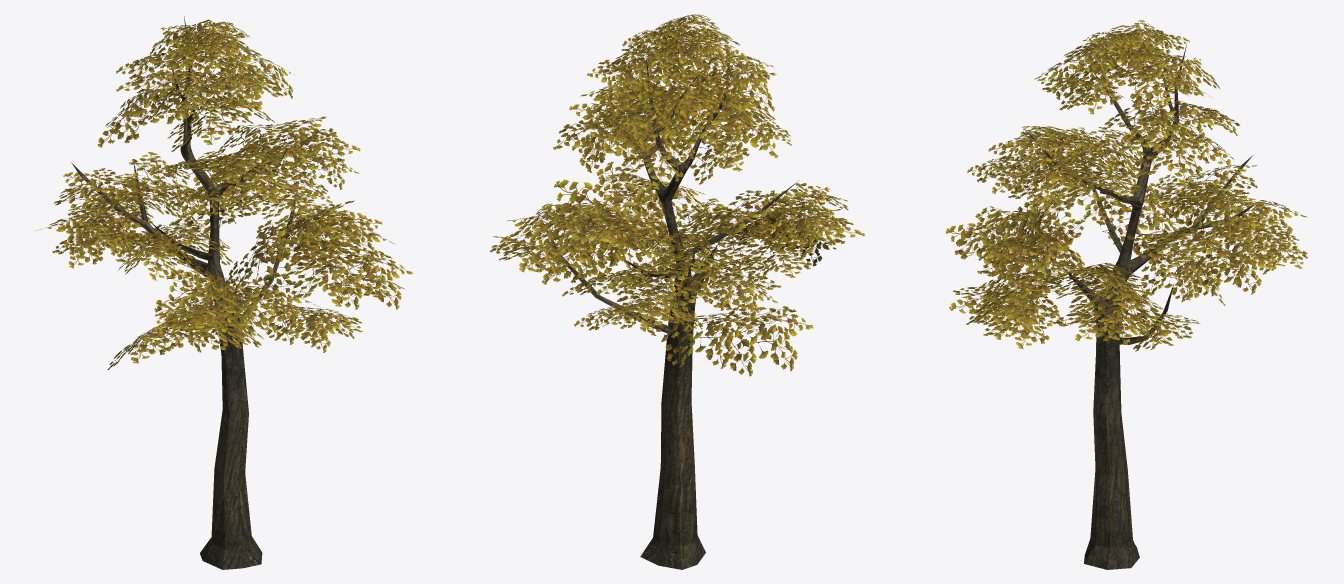
Rendered from bg_anh_tree_ginkgotree01a_sm_ysi.FBX.
3 renders of one model, left to right at view 1: azimuth 30°, elevation 25°; view 2: azimuth 150°, elevation 25°; view 3: azimuth 270°, elevation 25°, orthographic. The views are drawn at different scales.
Visible parts, largest first — view 1: bg_anh_tree_ginkgotree01a_sm_ysi; view 2: bg_anh_tree_ginkgotree01a_sm_ysi; view 3: bg_anh_tree_ginkgotree01a_sm_ysi.
Part boxes in pixels (x1,y1,x2,y2): bg_anh_tree_ginkgotree01a_sm_ysi: (36,16,412,569); bg_anh_tree_ginkgotree01a_sm_ysi: (490,14,864,569); bg_anh_tree_ginkgotree01a_sm_ysi: (945,20,1307,569).
Bounding box in the file's own units: 390 × 562 × 400.
